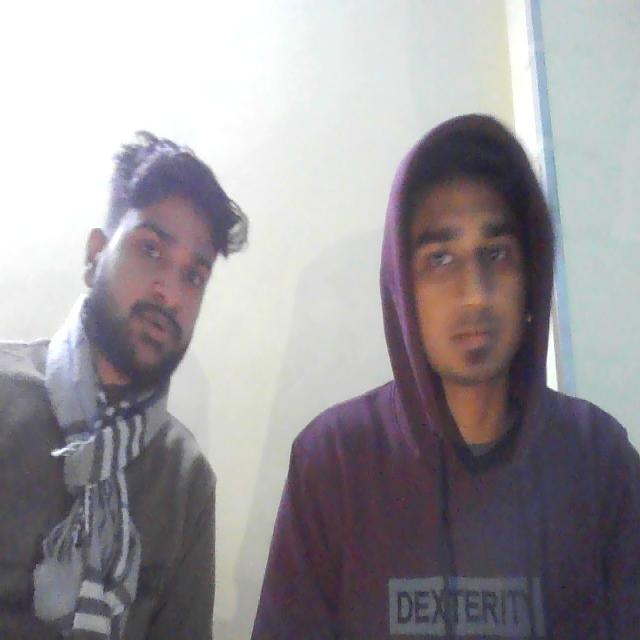real: (389, 111, 547, 409), (90, 139, 220, 385)
